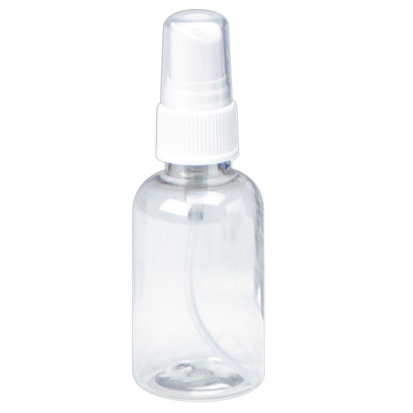emptybottle: (129, 9, 267, 401)
